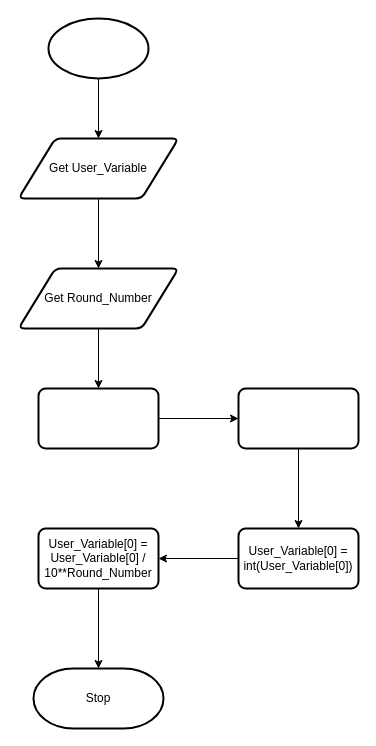
The diagram is 376 pixels wide and 746 high, and some of its shapes have lost their labels. Each missing label, with the centre of its shape:
"Start" goes at point 98,48.
"User_Variable[0] = User_Variable[0] * 10**Round_Number" goes at point 98,418.
"User_Variable[0] = User_Variable[0] + 0.5" goes at point 298,418.
